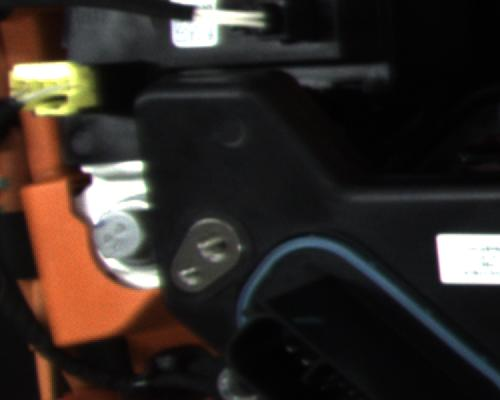nut_b: (86, 195, 153, 276)
